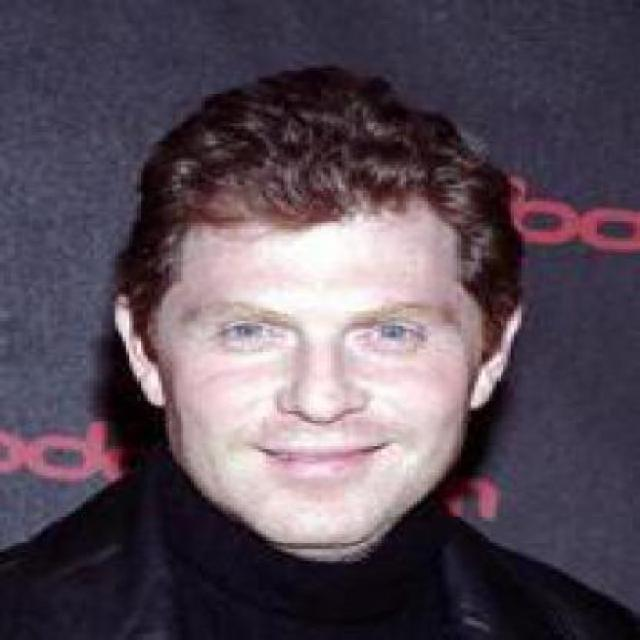closed-mouth: (245, 434, 393, 478)
